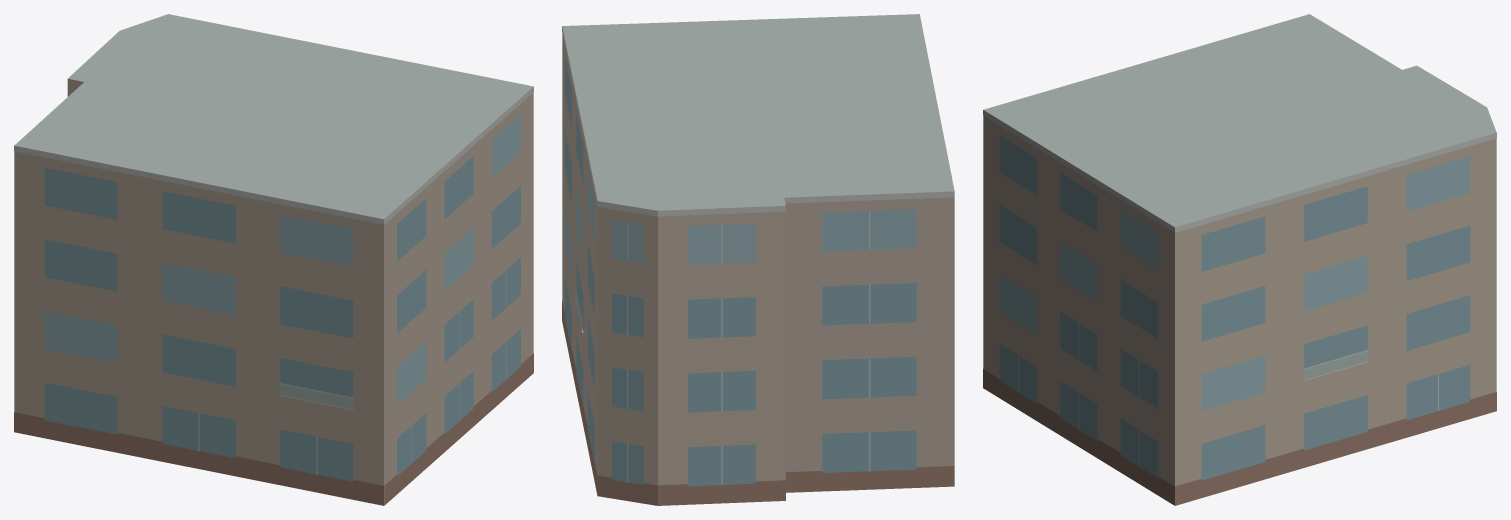
File: survey-upis-32909282.glb
3 views of the same model, side by side, from view 1: azimuth 30°, elevation 25°; view 2: azimuth 150°, elevation 25°; view 3: azimuth 270°, elevation 25° (orthographic). The views are drawn at different scales.
Parts seen in each view (by area): view 1: survey-upis-32909282.tmp; view 2: survey-upis-32909282.tmp; view 3: survey-upis-32909282.tmp.
Part boxes in pixels (bbox=[...]): survey-upis-32909282.tmp: bbox=[14, 14, 533, 505]; survey-upis-32909282.tmp: bbox=[562, 14, 954, 505]; survey-upis-32909282.tmp: bbox=[983, 14, 1496, 505].
Size of the model in its own units: 20.24 by 12.3 by 20.57.
